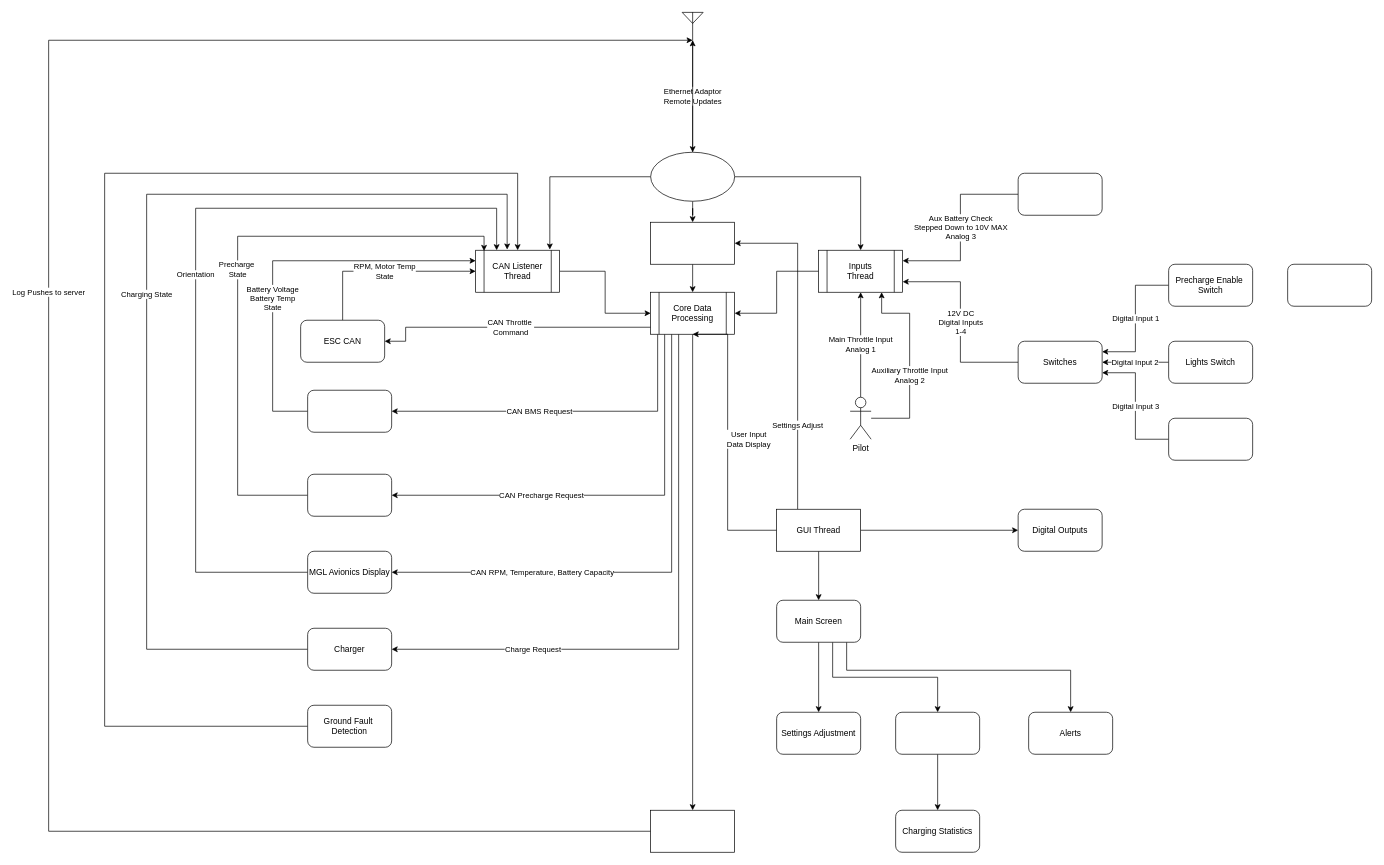
Some shapes in this 1384 by 865 pixel diagram are drawn without their labels. The shapes that lost their labels are listed below. From the top down, each one's box as (x1, y1, x2, y2) in pixels, then its label:
(650, 152, 735, 201): Main Process
(1017, 173, 1102, 215): 12V Battery
(650, 222, 735, 264): Settings/Configuration
(1287, 264, 1372, 306): Charging Switch?
(307, 390, 392, 432): BMS CAN
(1168, 418, 1253, 460): DC-DC status
(307, 474, 392, 516): Precharger CAN
(895, 712, 980, 754): Battery Statistics
(650, 810, 735, 852): Logging
